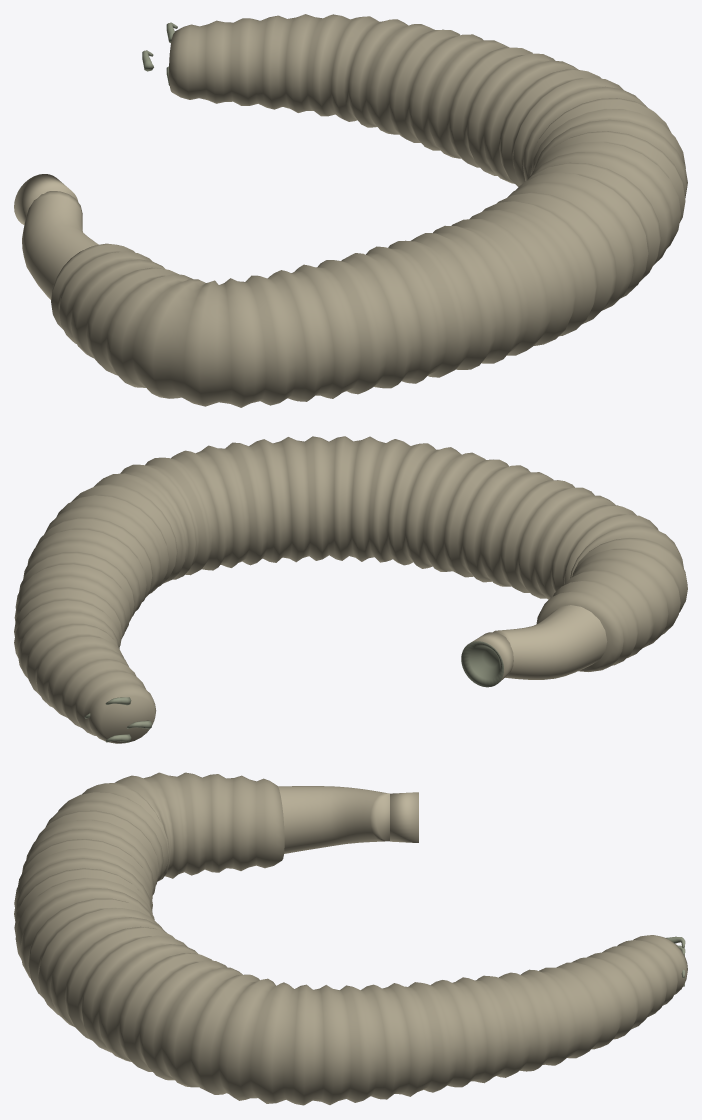
File: ottoia.glb
3 views of the same model, one above another, from view 1: azimuth 30°, elevation 25°; view 2: azimuth 150°, elevation 25°; view 3: azimuth 270°, elevation 25° (orthographic). The views are drawn at different scales.
Visible parts, largest first — view 1: one gently curved tapered annulated trunk, restrained short introvert and inset mouth cup; view 2: one gently curved tapered annulated trunk, restrained short introvert and inset mouth cup, subtle short posterior hook hints; view 3: one gently curved tapered annulated trunk, restrained short introvert and inset mouth cup.
Part boxes in pixels (x1,y1,x2,y2): one gently curved tapered annulated trunk: (51, 14, 687, 407); restrained short introvert and inset mouth cup: (14, 174, 98, 299); one gently curved tapered annulated trunk: (14, 436, 687, 743); restrained short introvert and inset mouth cup: (461, 605, 607, 687); subtle short posterior hook hints: (84, 697, 152, 742); one gently curved tapered annulated trunk: (14, 772, 687, 1105); restrained short introvert and inset mouth cup: (278, 786, 418, 853).
Bounding box in the file's own units: 0.0671 × 0.0133 × 0.07.
